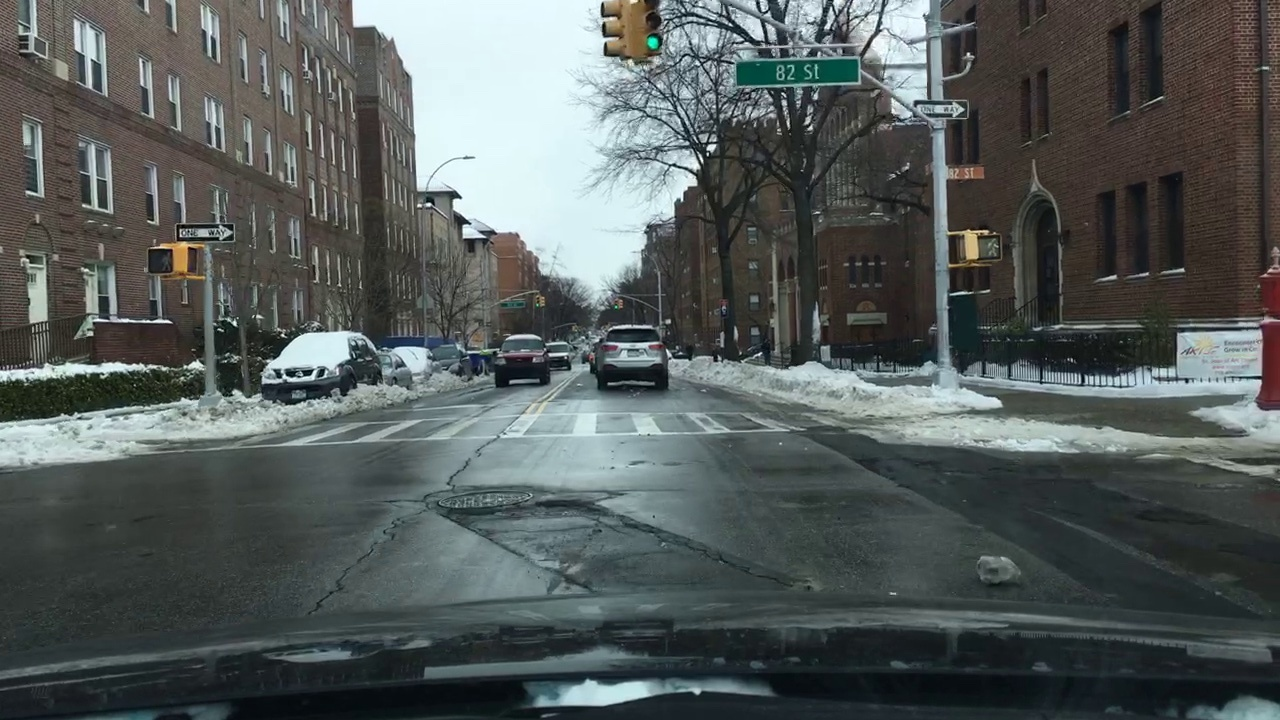car: (263, 327, 384, 403), (598, 322, 672, 390), (497, 333, 549, 385)
traffic light: (604, 4, 670, 66)
